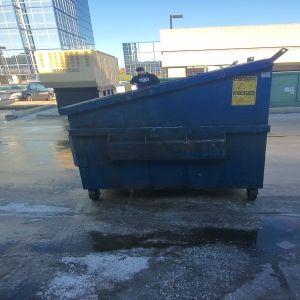Dumpster: (59, 92, 273, 204)
Person: (130, 64, 160, 87)
